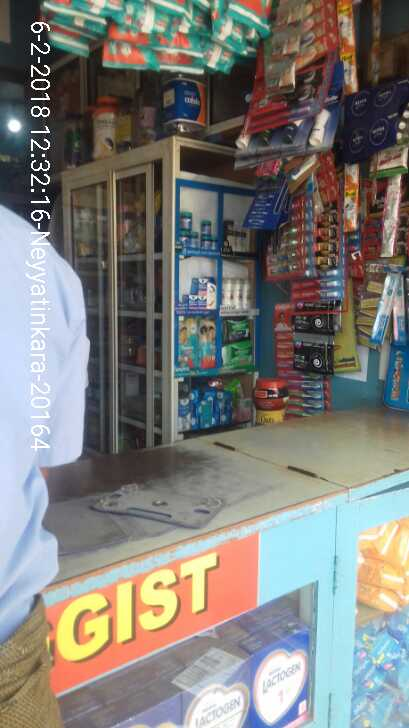vicks: (172, 215, 221, 242)
